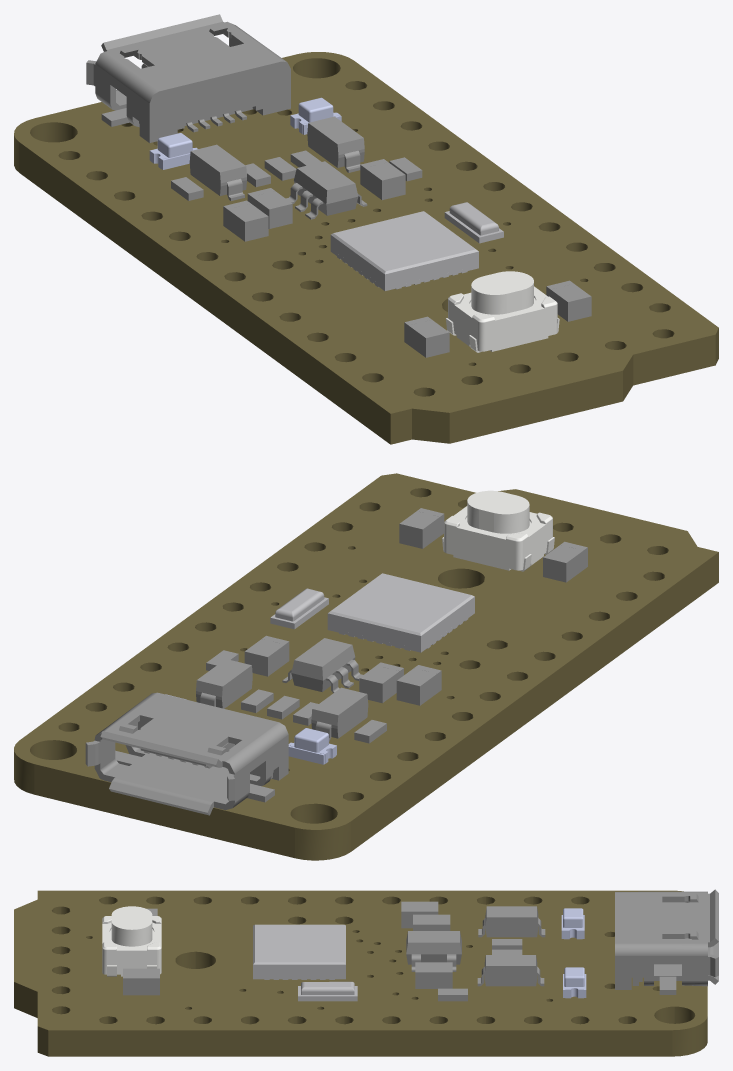
The model's file is ada-2010.glb.
3 views of the same model, one above another, from view 1: azimuth 30°, elevation 25°; view 2: azimuth 150°, elevation 25°; view 3: azimuth 270°, elevation 25° (orthographic). The views are drawn at different scales.
Visible parts, largest first — view 1: 0.16666666666666666_0.16666666666666666_0.08333333333333333_, 0.3333333333333333_0.3333333333333333_0.3333333333333333_0, 0.5833333333333334_0.5833333333333334_0.5833333333333334_0.8, 0.9166666666666666_0.9166666666666666_0.9166666666666666_0.8, 0.5833333333333334_0.6666666666666666_0.8333333333333334_0; view 2: 0.16666666666666666_0.16666666666666666_0.08333333333333333_, 0.3333333333333333_0.3333333333333333_0.3333333333333333_0, 0.5833333333333334_0.5833333333333334_0.5833333333333334_0.8, 0.9166666666666666_0.9166666666666666_0.9166666666666666_0.8, 0.5833333333333334_0.6666666666666666_0.8333333333333334_0; view 3: 0.16666666666666666_0.16666666666666666_0.08333333333333333_, 0.3333333333333333_0.3333333333333333_0.3333333333333333_0, 0.5833333333333334_0.5833333333333334_0.5833333333333334_0.8, 0.9166666666666666_0.9166666666666666_0.9166666666666666_0.8, 0.5833333333333334_0.6666666666666666_0.8333333333333334_0.
Part boxes in pixels (box(x1,y1,x2,y2)): 0.16666666666666666_0.16666666666666666_0.08333333333333333_: box(14, 52, 718, 444); 0.3333333333333333_0.3333333333333333_0.3333333333333333_0: box(86, 14, 591, 357); 0.5833333333333334_0.5833333333333334_0.5833333333333334_0.8: box(330, 202, 503, 290); 0.9166666666666666_0.9166666666666666_0.9166666666666666_0.8: box(445, 271, 559, 352); 0.5833333333333334_0.6666666666666666_0.8333333333333334_0: box(149, 97, 341, 169); 0.16666666666666666_0.16666666666666666_0.08333333333333333_: box(14, 473, 718, 860); 0.3333333333333333_0.3333333333333333_0.3333333333333333_0: box(85, 508, 587, 815); 0.5833333333333334_0.5833333333333334_0.5833333333333334_0.8: box(270, 573, 474, 652); 0.9166666666666666_0.9166666666666666_0.9166666666666666_0.8: box(442, 490, 554, 571); 0.5833333333333334_0.6666666666666666_0.8333333333333334_0: box(165, 694, 336, 764); 0.16666666666666666_0.16666666666666666_0.08333333333333333_: box(14, 890, 707, 1056); 0.3333333333333333_0.3333333333333333_0.3333333333333333_0: box(123, 889, 718, 1001); 0.5833333333333334_0.5833333333333334_0.5833333333333334_0.8: box(253, 924, 357, 1001); 0.9166666666666666_0.9166666666666666_0.9166666666666666_0.8: box(102, 906, 161, 976); 0.5833333333333334_0.6666666666666666_0.8333333333333334_0: box(561, 908, 586, 998).
Size of the model in its own units: 1.78 by 0.4339 by 3.79.
